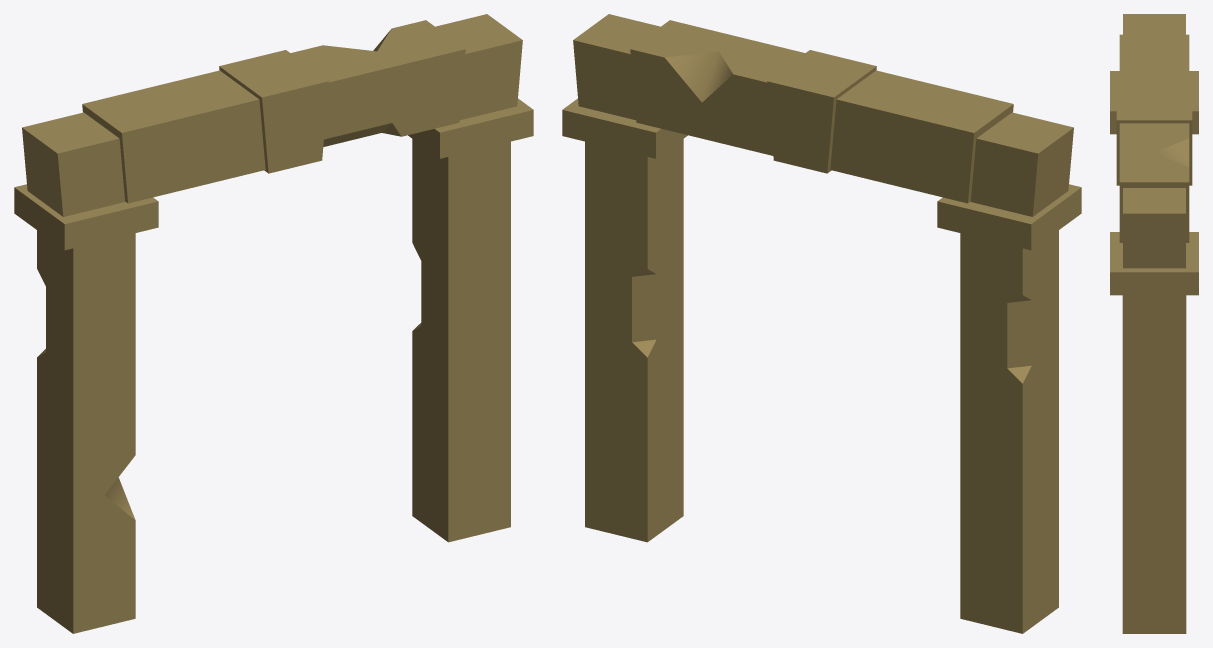
File: arch.glb
3 views of the same model, side by side, from view 1: azimuth 30°, elevation 25°; view 2: azimuth 150°, elevation 25°; view 3: azimuth 270°, elevation 25° (orthographic). The views are drawn at different scales.
Visible parts, largest first — view 1: Archway3; view 2: Archway3; view 3: Archway3.
Boxes of the visible parts, x1=… form: Archway3: x1=14, y1=14, x2=533, y2=633; Archway3: x1=562, y1=14, x2=1081, y2=633; Archway3: x1=1110, y1=14, x2=1198, y2=633.
Size of what is drawn, in the model's own units: 1.01 by 1.02 by 0.189.
